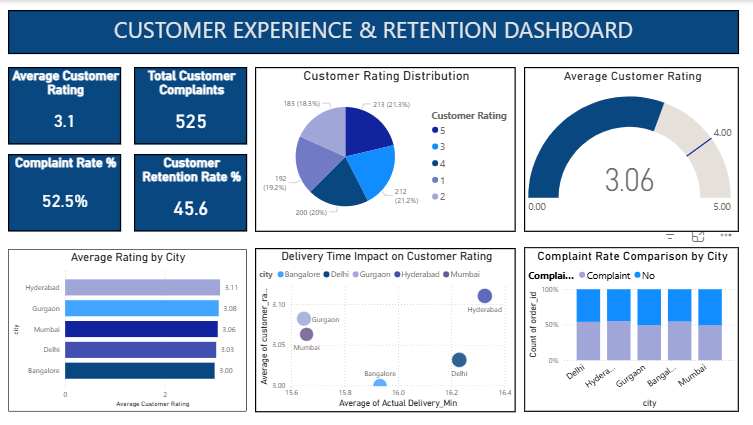

The page's visual inventory and layout, read from the dashboard file:
{"tool":"powerbi","page":{"name":"Customer Experience & Retention Dashboard","canvas":[1280,720],"ordinal":1},"visuals":[{"type":"textbox","box":[16.8,16.8,1227.9,73.9],"z":0},{"type":"card","title":"Customer Retention Rate %","fields":{"Values":["Avg(Blinkit_Orders.Repeat Customers Rate)"]},"box":[228.9,258.8,190.2,130.3],"z":1000},{"type":"card","title":"Total Customer Complaints","fields":{"Values":["Sum(Blinkit_Orders.complaint_flag)"]},"box":[228.9,112.7,190.2,130.3],"z":2000},{"type":"card","title":"Complaint Rate %","fields":{"Values":["Blinkit_Orders.Complaint Rate"]},"box":[17.6,258.8,190.2,130.3],"z":3000},{"type":"card","title":"Average Customer Rating","fields":{"Values":["Avg(Blinkit_Orders.customer_rating)"]},"box":[17.6,112.7,190.2,130.3],"z":4000},{"type":"pieChart","title":"Customer Rating Distribution","fields":{"Category":["Blinkit_Orders.customer_rating"],"Y":["CountNonNull(Blinkit_Orders.order_id)"]},"box":[431.7,112.5,438.4,277.2],"z":5000},{"type":"clusteredBarChart","title":"Average Rating by City","fields":{"Y":["Avg(Blinkit_Orders.customer_rating)"],"Category":["Blinkit_Orders.city"]},"box":[17.6,419,401.4,272.9],"z":6000},{"type":"scatterChart","title":"Delivery Time Impact on Customer Rating","fields":{"X":["Avg(Blinkit_Orders.Actual Delivery_Min)"],"Y":["Avg(Blinkit_Orders.customer_rating)"],"Series":["Blinkit_Orders.city"],"Size":["CountNonNull(Blinkit_Orders.order_id)"]},"box":[431.4,417.3,438.4,276.4],"z":7000},{"type":"hundredPercentStackedColumnChart","title":"Complaint Rate Comparison by City","fields":{"Category":["Blinkit_Orders.city"],"Series":["Blinkit_Orders.Complaint Status"],"Y":["CountNonNull(Blinkit_Orders.order_id)"]},"box":[883.6,414.9,361.2,277.2],"z":8000},{"type":"gauge","title":"Average Customer Rating","fields":{"Y":["Avg(Blinkit_Orders.customer_rating)"]},"box":[883.6,112.5,361.2,277.2],"z":9000}]}

Visuals, with their boxes in screenshot pixels (x1, y1, x2, y2), scaled from the page's 1280x720 canvas onto the 753x425 screenshot:
textbox: l=10, t=10, r=732, b=54
"Customer Retention Rate %" card: l=135, t=153, r=247, b=230
"Total Customer Complaints" card: l=135, t=67, r=247, b=143
"Complaint Rate %" card: l=10, t=153, r=122, b=230
"Average Customer Rating" card: l=10, t=67, r=122, b=143
"Customer Rating Distribution" pieChart: l=254, t=66, r=512, b=230
"Average Rating by City" clusteredBarChart: l=10, t=247, r=246, b=408
"Delivery Time Impact on Customer Rating" scatterChart: l=254, t=246, r=512, b=409
"Complaint Rate Comparison by City" hundredPercentStackedColumnChart: l=520, t=245, r=732, b=409
"Average Customer Rating" gauge: l=520, t=66, r=732, b=230
